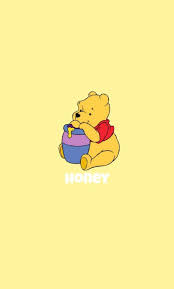Winnie: (64, 91, 119, 142)
